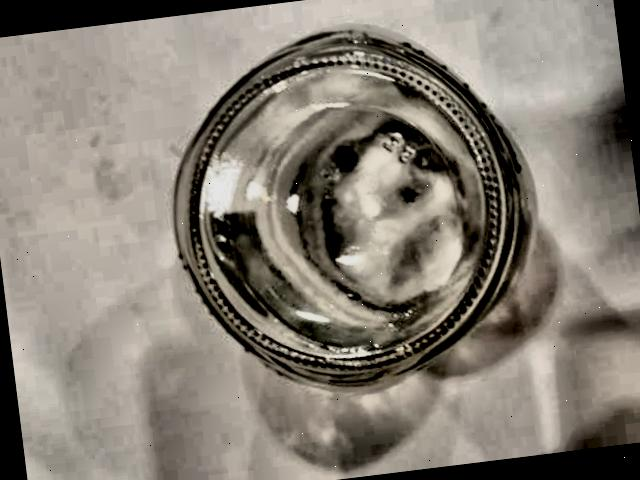Almennt: (142, 0, 587, 442)
